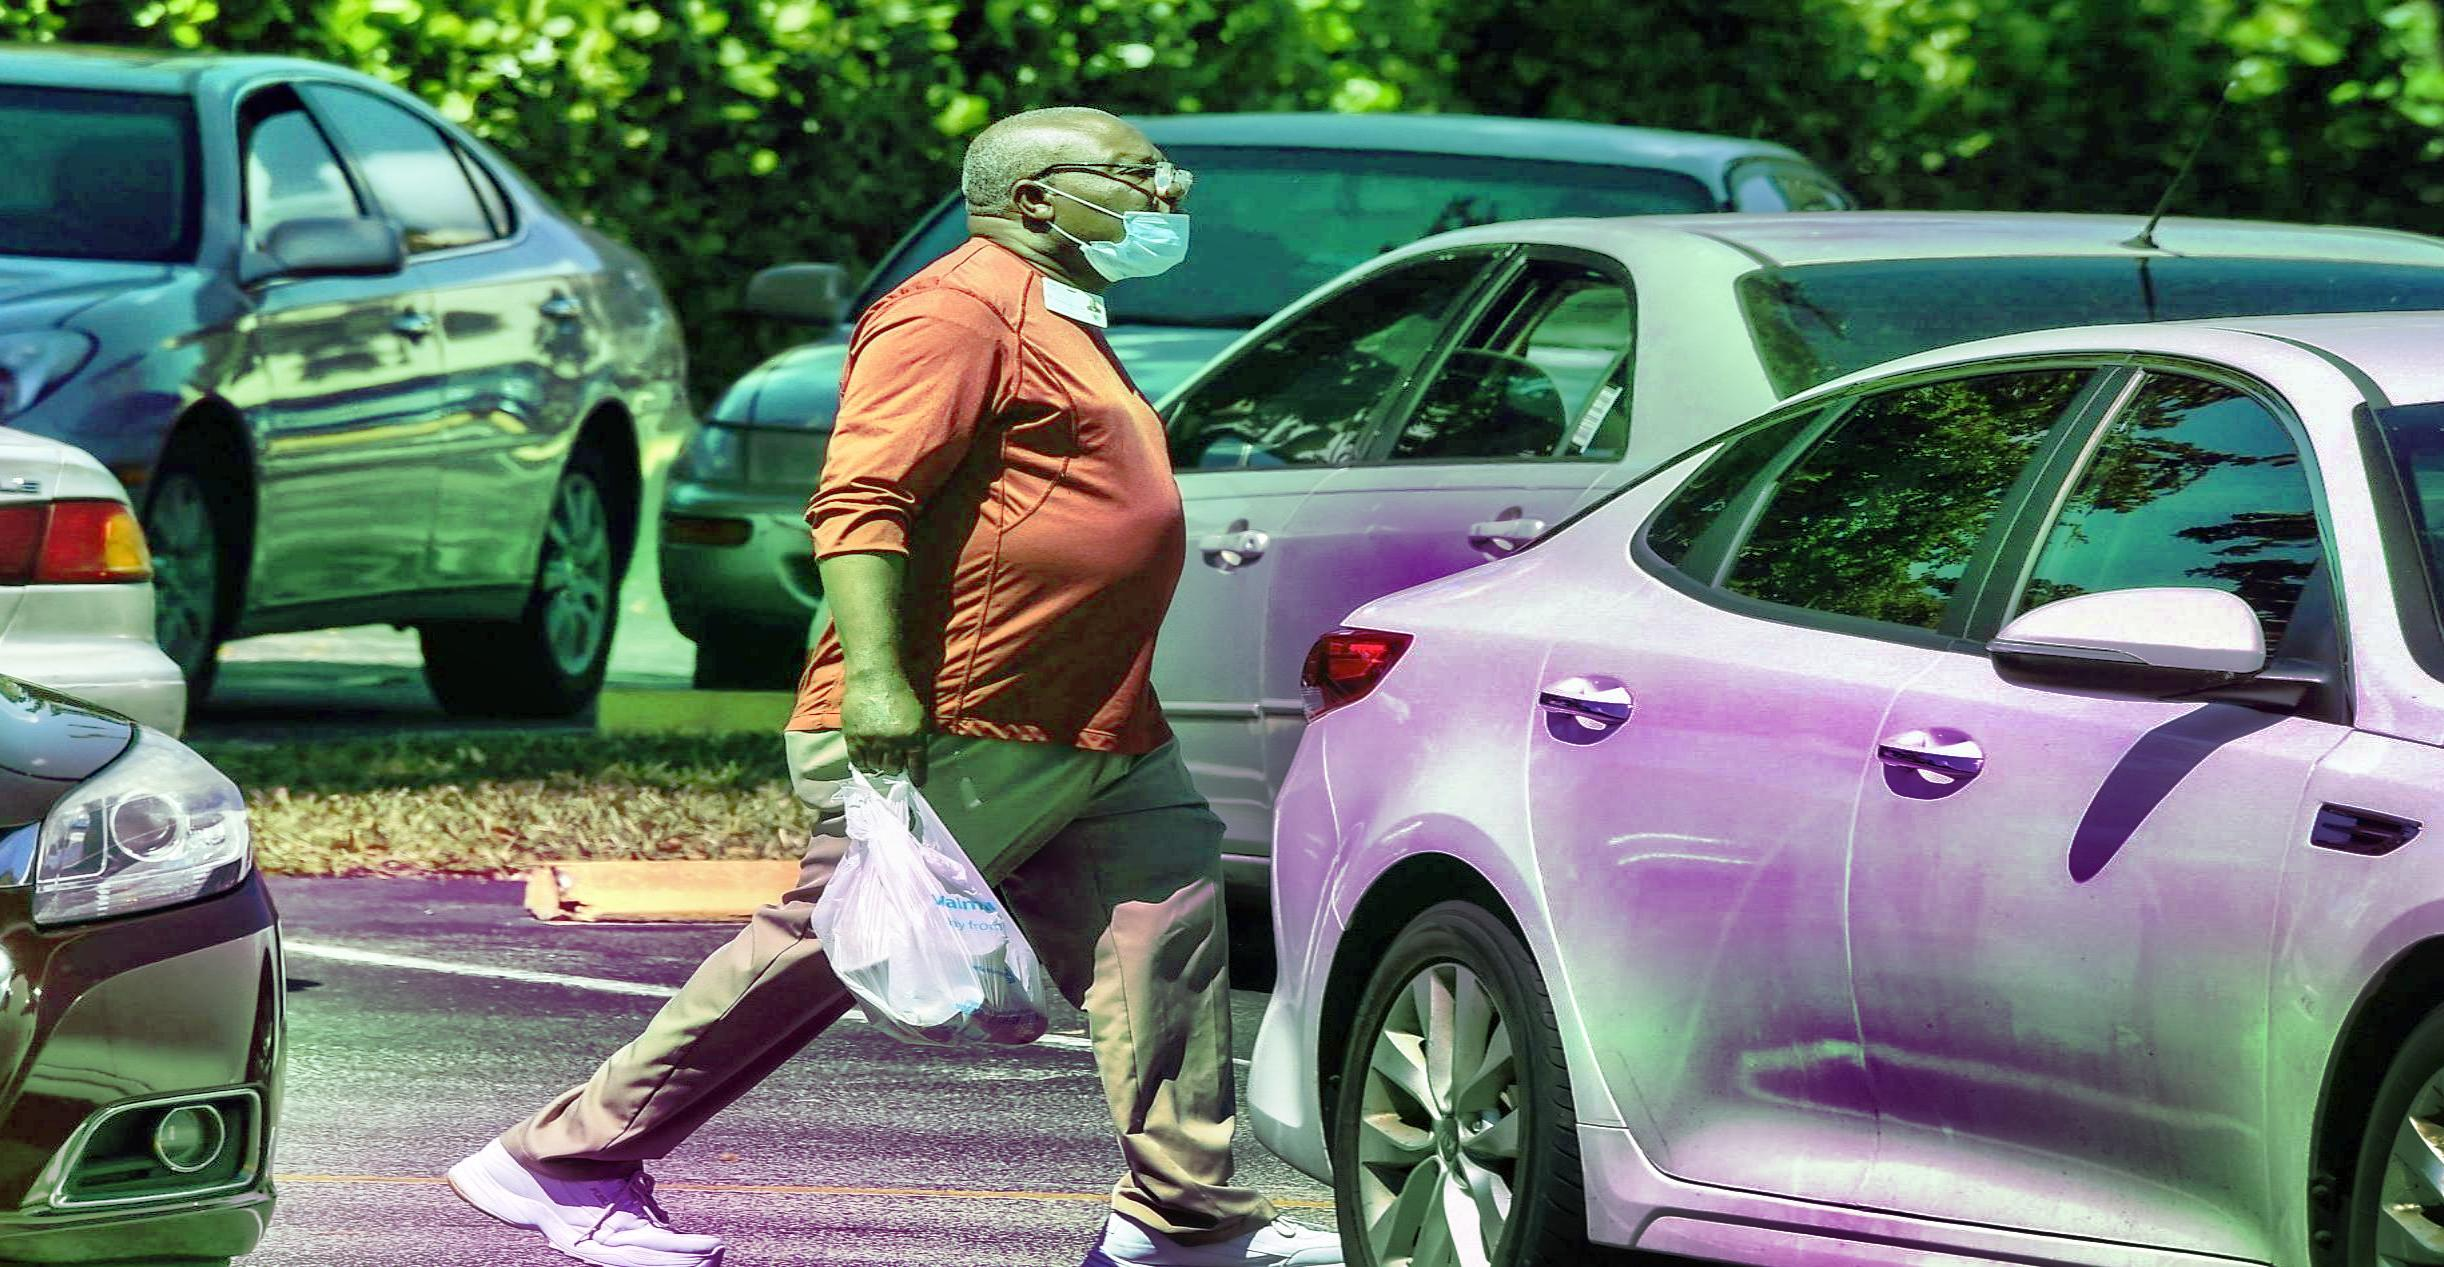mask_weared_incorrect: (990, 98, 1239, 318), (945, 106, 1204, 295)
